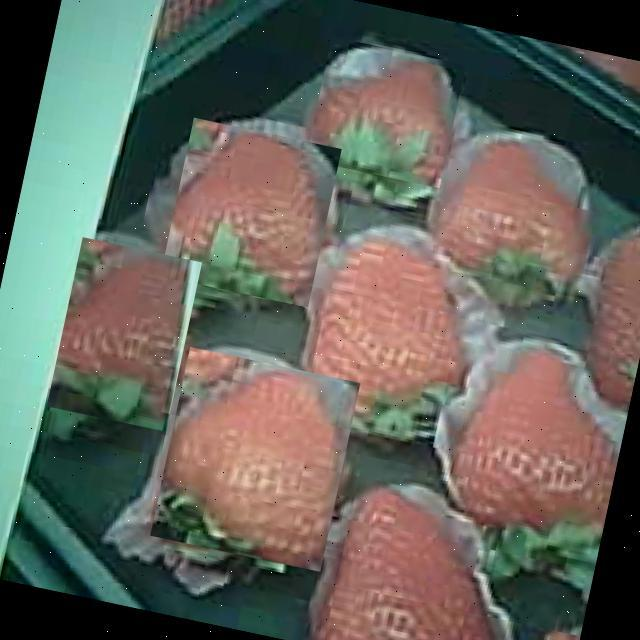ripe: (150, 346, 360, 572), (439, 339, 636, 548), (294, 231, 484, 443), (160, 117, 341, 307), (312, 478, 523, 640), (428, 128, 603, 306), (46, 236, 202, 432), (305, 36, 465, 188)
